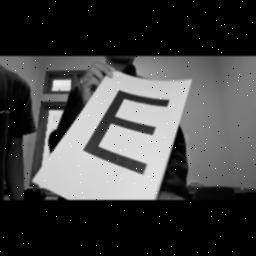e: (80, 84, 174, 178)
